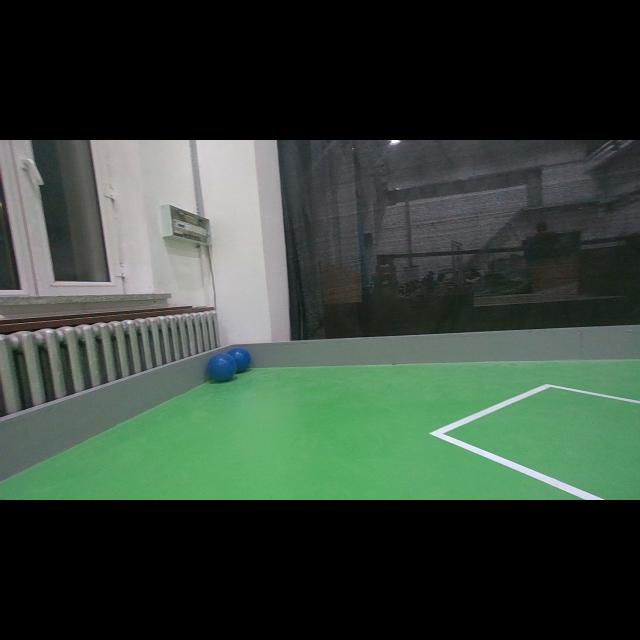B: (207, 353, 237, 382), (227, 347, 253, 379)
